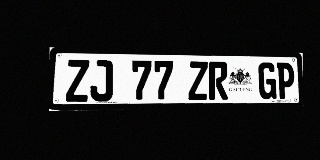7: (130, 60, 152, 101), (153, 61, 173, 101)
G: (258, 62, 276, 99)
J: (90, 60, 113, 102)
P: (277, 62, 294, 99)
R: (208, 61, 228, 100)
Z: (66, 59, 89, 102), (188, 61, 208, 100)
